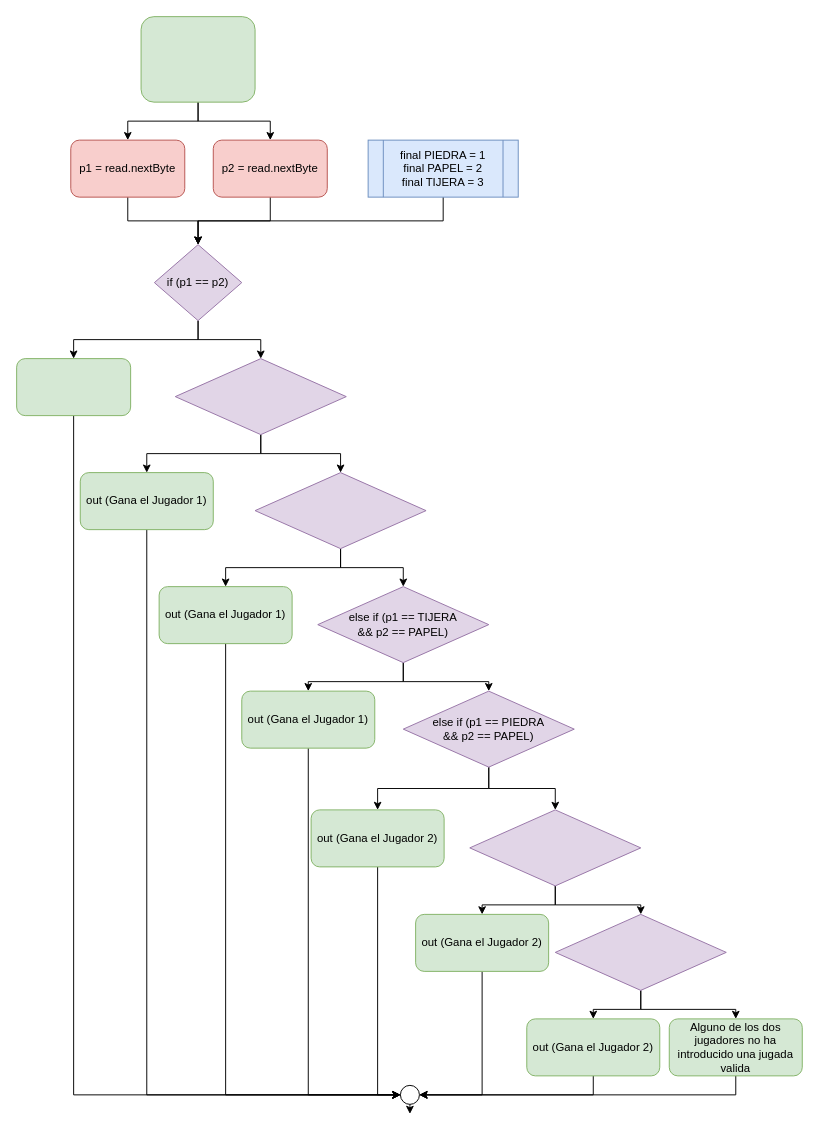
Some shapes in this 819 by 1138 pixel diagram are drawn without their labels. Each missing label, with the centre of its shape:
"else if (p1 == PAPEL && p2 == PIEDRA)" belongs at (340,510).
"else if (p1 == PAPEL && p2 == TIJERA)" belongs at (555,847).
"else if (p1 == PIEDRA && p2 == TIJERA)" belongs at (260,396).
"else if (p1 == TIJERA && p2 == PIEDRA)" belongs at (640,951).
"out (Empate)" belongs at (73,387).
"out (Jugador x elige tu jugada) Piedra = 1 Papel = 2 Tijera = 3" belongs at (197,59).
